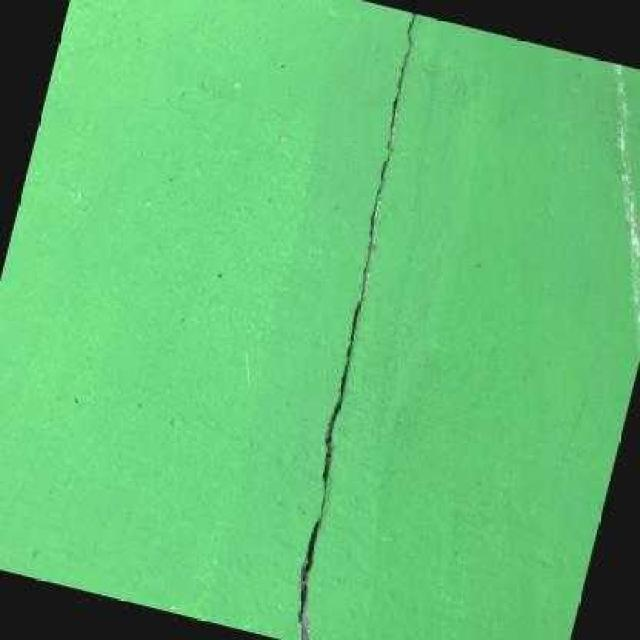D00: (296, 13, 418, 640)
